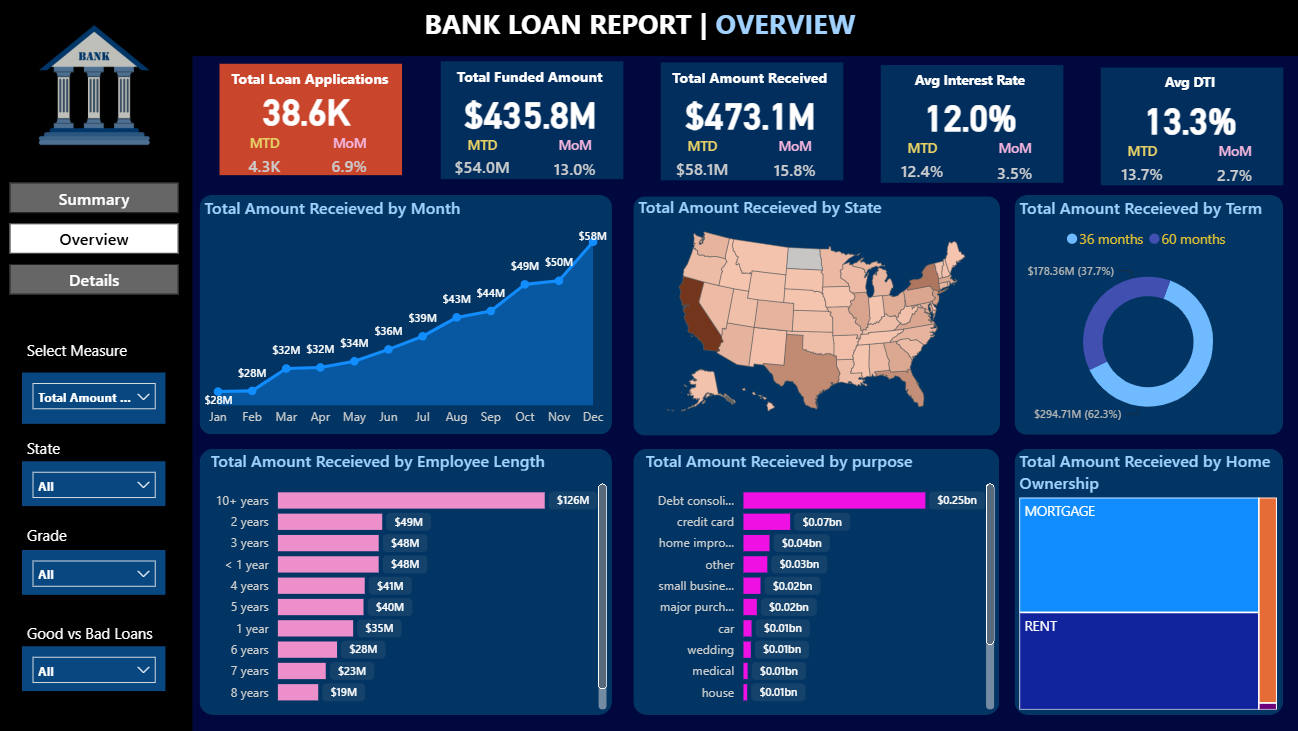

What the dashboard file says about the page in this screenshot:
{"tool":"powerbi","page":{"name":"Overview","canvas":[1280,720],"ordinal":1},"visuals":[{"type":"shape","box":[0,0,1280.3,55],"z":0},{"type":"shape","box":[435,60.5,179.6,115.6],"z":0,"group":"g2"},{"type":"shape","box":[650.9,61.4,179.6,115.6],"z":0,"group":"g3"},{"type":"shape","box":[219,62.6,179.6,109.4],"z":0,"group":"g1"},{"type":"shape","box":[866.8,63.6,179.6,115.6],"z":0,"group":"g4"},{"type":"shape","box":[1082.7,65.8,179.6,115.6],"z":0,"group":"g5"},{"type":"shape","box":[0,54,191.8,665.3],"z":1000},{"type":"card","fields":{"Values":["bank_loan_data.Total Loan Applications"]},"box":[191.7,87.6,224.5,41.7],"z":1000,"group":"g1"},{"type":"card","fields":{"Values":["bank_loan_data.Total Funded Amount"]},"box":[414.6,89.1,217.7,43.5],"z":1000,"group":"g2"},{"type":"card","fields":{"Values":["bank_loan_data.Total Amount Receieved"]},"box":[630.5,90,217.7,43.5],"z":1000,"group":"g3"},{"type":"card","fields":{"Values":["bank_loan_data.Avg Interest rate"]},"box":[846.4,92.2,217.7,43.5],"z":1000,"group":"g4"},{"type":"card","fields":{"Values":["bank_loan_data.Avg DTI"]},"box":[1062.3,94.4,217.7,43.5],"z":1000,"group":"g5"},{"type":"textbox","box":[415,0,449,44.9],"z":2000},{"type":"textbox","box":[432.3,60.5,182.3,35.4],"z":2000,"group":"g2"},{"type":"textbox","box":[648.2,61.4,182.3,35.4],"z":2000,"group":"g3"},{"type":"textbox","box":[216.3,62.6,182.3,33.5],"z":2000,"group":"g1"},{"type":"textbox","box":[864.1,63.6,182.3,35.4],"z":2000,"group":"g4"},{"type":"textbox","box":[1080,65.8,182.3,35.4],"z":2000,"group":"g5"},{"type":"card","title":"MTD","fields":{"Values":["bank_loan_data.MTD Loan Applications"]},"box":[236.7,130.8,51.7,50.2],"z":3000,"group":"g1"},{"type":"card","title":"MTD","fields":{"Values":["bank_loan_data.MTD Funded Amount"]},"box":[440.2,133.1,72.1,50.3],"z":3000,"group":"g2"},{"type":"card","title":"MTD","fields":{"Values":["bank_loan_data.MTD Total Amount Received"]},"box":[656.1,134,72.1,50.3],"z":3000,"group":"g3"},{"type":"card","title":"MTD","fields":{"Values":["bank_loan_data.MTD Avg Interest Rate"]},"box":[872,136.2,72.1,50.3],"z":3000,"group":"g4"},{"type":"card","title":"MTD","fields":{"Values":["bank_loan_data.MTD Avg DTI"]},"box":[1087.9,138.4,72.1,50.3],"z":3000,"group":"g5"},{"type":"textbox","box":[217.2,192.6,182.8,35.6],"z":3000},{"type":"group","id":"g1","title":"Group 1","box":[191.7,62.6,224.5,118.4],"z":4000},{"type":"card","title":"MoM","fields":{"Values":["bank_loan_data.MOM Loan Applications"]},"box":[321.1,130.8,51.7,50.2],"z":4000,"group":"g1"},{"type":"card","title":"MoM","fields":{"Values":["bank_loan_data.MOM Total Funded Amount"]},"box":[537.3,133.1,59.9,53.1],"z":4000,"group":"g2"},{"type":"card","title":"MoM","fields":{"Values":["bank_loan_data.MOM Total Amount Received"]},"box":[753.2,134,59.9,53.1],"z":4000,"group":"g3"},{"type":"card","title":"MoM","fields":{"Values":["bank_loan_data.MOM Avg Interest Rate"]},"box":[969.1,136.2,59.9,53.1],"z":4000,"group":"g4"},{"type":"card","title":"MoM","fields":{"Values":["bank_loan_data.MOM Avg DTI"]},"box":[1185,138.4,59.9,53.1],"z":4000,"group":"g5"},{"type":"group","id":"g2","title":"Group 1","box":[414.6,60.5,217.7,125.2],"z":5000},{"type":"group","id":"g3","title":"Group 1","box":[630.5,61.4,217.7,126.5],"z":6000},{"type":"group","id":"g4","title":"Group 1","box":[846.4,63.6,217.7,126.5],"z":7000},{"type":"group","id":"g5","title":"Group 1","box":[1062.3,65.8,217.7,126.5],"z":8000},{"type":"shape","box":[198.6,191.8,405,235],"z":9000},{"type":"slicer","fields":{"Values":["bank_loan_data.address_state"]},"box":[24.8,452.3,141.1,44.2],"z":10000},{"type":"textbox","box":[24.8,424.1,51.5,36.8],"z":11000},{"type":"slicer","fields":{"Values":["bank_loan_data.grade"]},"box":[24.8,539.4,141.1,44.2],"z":12000},{"type":"textbox","box":[24.8,510,69.9,36.8],"z":13000},{"type":"slicer","fields":{"Values":["bank_loan_data.Good vs Bad Loan"]},"box":[24.8,633.9,141.1,44.2],"z":14000},{"type":"textbox","box":[25,606.2,149.7,36.8],"z":15000},{"type":"areaChart","fields":{"Category":["Date Table.Month"]},"box":[198.8,192.6,404.9,234.4],"z":16000},{"type":"slicer","fields":{"Values":["Select Measure.Select Measure"]},"box":[24.8,365.2,141.1,50.3],"z":17000},{"type":"textbox","box":[24.8,328.4,132.5,36.8],"z":18000},{"type":"shape","box":[624.5,192.6,360,235],"z":19000},{"type":"shapeMap","fields":{"Category":["bank_loan_data.address_state"]},"box":[624.5,191.4,359.5,227],"z":20000},{"type":"shape","box":[998.8,191.4,263.8,235.6],"z":21000},{"type":"donutChart","fields":{"Category":["bank_loan_data.term"]},"box":[998.8,192.6,262.6,234.4],"z":22000},{"type":"shape","box":[198.8,440.5,404.9,261.4],"z":23000},{"type":"barChart","fields":{"Category":["bank_loan_data.emp_length"]},"box":[204.9,440.5,398.8,261.4],"z":24000},{"type":"shape","box":[624.5,440.5,359.5,261.4],"z":25000},{"type":"barChart","fields":{"Category":["bank_loan_data.purpose"]},"box":[631.9,440.5,352.1,261.4],"z":26000},{"type":"shape","box":[998.8,440.5,263.8,261.4],"z":27000},{"type":"treemap","fields":{"Group":["bank_loan_data.home_ownership"]},"box":[998.8,440.5,262.6,261.4],"z":28000},{"type":"pageNavigator","box":[12.3,179.1,166.9,111.7],"z":29000},{"type":"image","box":[9.8,0,170.6,166.9],"z":29001}]}

Visuals, with their boxes in screenshot pixels (x1, y1, x2, y2), scaled from the page's 1280x720 canvas onto the 1298x731 screenshot:
shape: Rect(0, 0, 1297, 56)
shape: Rect(441, 61, 623, 179)
shape: Rect(660, 62, 842, 180)
shape: Rect(222, 64, 404, 175)
shape: Rect(879, 65, 1061, 182)
shape: Rect(1098, 67, 1280, 184)
shape: Rect(0, 55, 194, 730)
card - bank_loan_data.Total Loan Applications: Rect(194, 89, 422, 131)
card - bank_loan_data.Total Funded Amount: Rect(420, 90, 641, 135)
card - bank_loan_data.Total Amount Receieved: Rect(639, 91, 860, 136)
card - bank_loan_data.Avg Interest rate: Rect(858, 94, 1079, 138)
card - bank_loan_data.Avg DTI: Rect(1077, 96, 1297, 140)
textbox: Rect(421, 0, 876, 46)
textbox: Rect(438, 61, 623, 97)
textbox: Rect(657, 62, 842, 98)
textbox: Rect(219, 64, 404, 98)
textbox: Rect(876, 65, 1061, 101)
textbox: Rect(1095, 67, 1280, 103)
"MTD" card: Rect(240, 133, 292, 184)
"MTD" card: Rect(446, 135, 520, 186)
"MTD" card: Rect(665, 136, 738, 187)
"MTD" card: Rect(884, 138, 957, 189)
"MTD" card: Rect(1103, 141, 1176, 192)
textbox: Rect(220, 196, 406, 232)
"Group 1" group: Rect(194, 64, 422, 184)
"MoM" card: Rect(326, 133, 378, 184)
"MoM" card: Rect(545, 135, 606, 189)
"MoM" card: Rect(764, 136, 825, 190)
"MoM" card: Rect(983, 138, 1043, 192)
"MoM" card: Rect(1202, 141, 1262, 194)
"Group 1" group: Rect(420, 61, 641, 189)
"Group 1" group: Rect(639, 62, 860, 191)
"Group 1" group: Rect(858, 65, 1079, 193)
"Group 1" group: Rect(1077, 67, 1297, 195)
shape: Rect(201, 195, 612, 433)
slicer - bank_loan_data.address_state: Rect(25, 459, 168, 504)
textbox: Rect(25, 431, 77, 468)
slicer - bank_loan_data.grade: Rect(25, 548, 168, 593)
textbox: Rect(25, 518, 96, 555)
slicer - bank_loan_data.Good vs Bad Loan: Rect(25, 644, 168, 688)
textbox: Rect(25, 615, 177, 653)
areaChart - Date Table.Month: Rect(202, 196, 612, 434)
slicer - Select Measure.Select Measure: Rect(25, 371, 168, 422)
textbox: Rect(25, 333, 160, 371)
shape: Rect(633, 196, 998, 434)
shapeMap - bank_loan_data.address_state: Rect(633, 194, 998, 425)
shape: Rect(1013, 194, 1280, 434)
donutChart - bank_loan_data.term: Rect(1013, 196, 1279, 434)
shape: Rect(202, 447, 612, 713)
barChart - bank_loan_data.emp_length: Rect(208, 447, 612, 713)
shape: Rect(633, 447, 998, 713)
barChart - bank_loan_data.purpose: Rect(641, 447, 998, 713)
shape: Rect(1013, 447, 1280, 713)
treemap - bank_loan_data.home_ownership: Rect(1013, 447, 1279, 713)
pageNavigator: Rect(12, 182, 182, 295)
image: Rect(10, 0, 183, 169)
